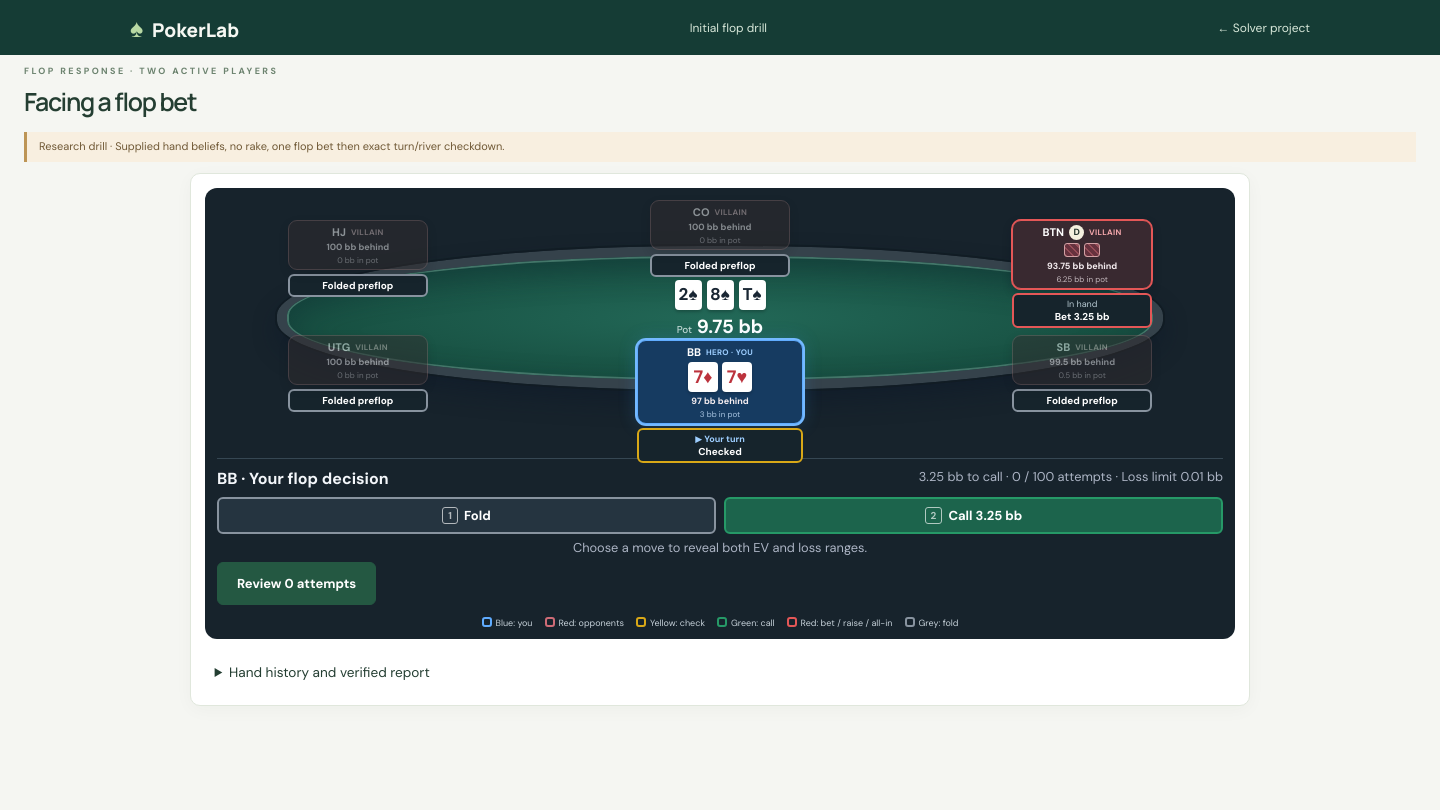
supports an empty review without inventing an action
Expected: the button "1 Fold" is shown, [217,497,716,534]
Click the button "Review 0 attempts" at (297, 583), box [217,562,376,605]
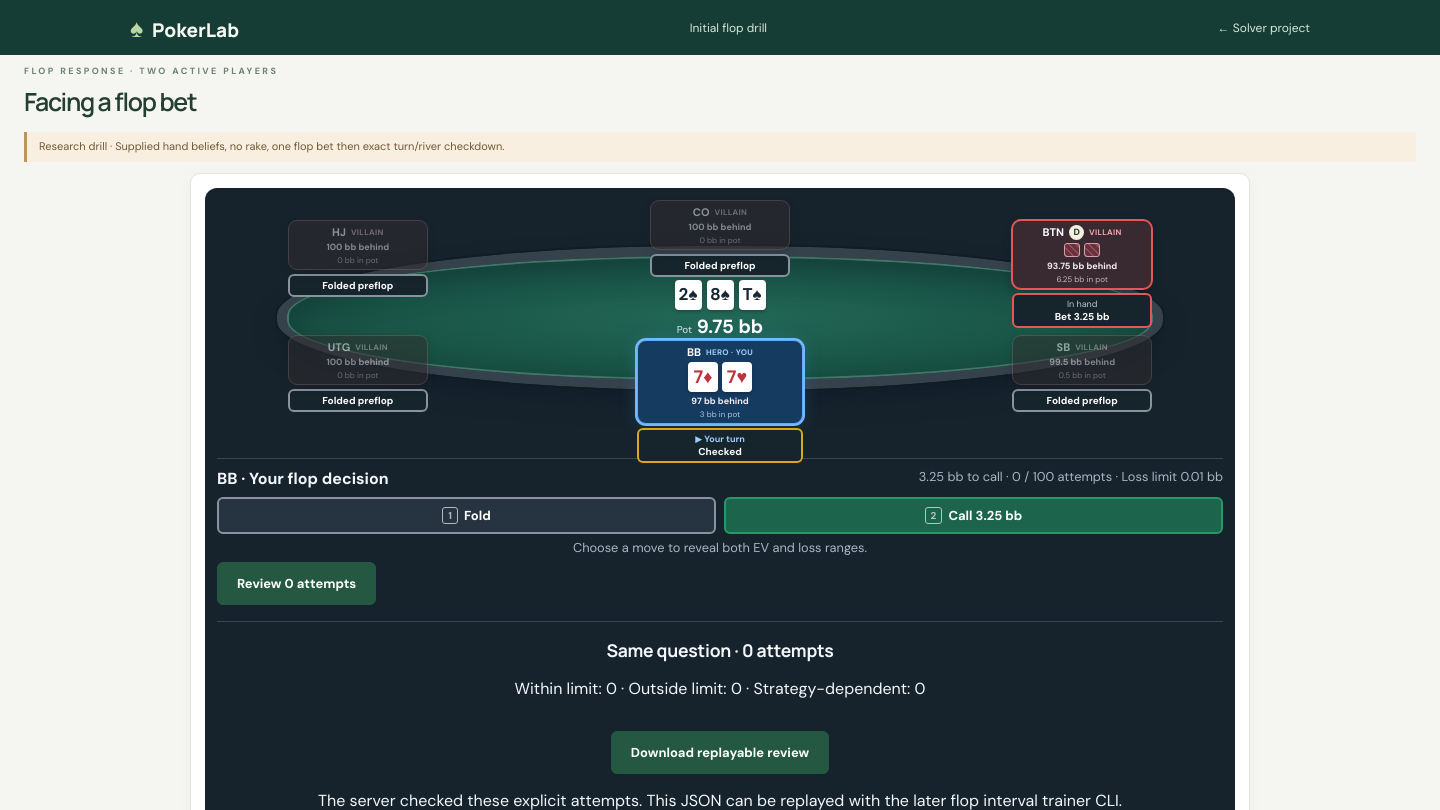
Expected: the element named "Attempt review" shows "0 attempts", [217,621,1223,809]
